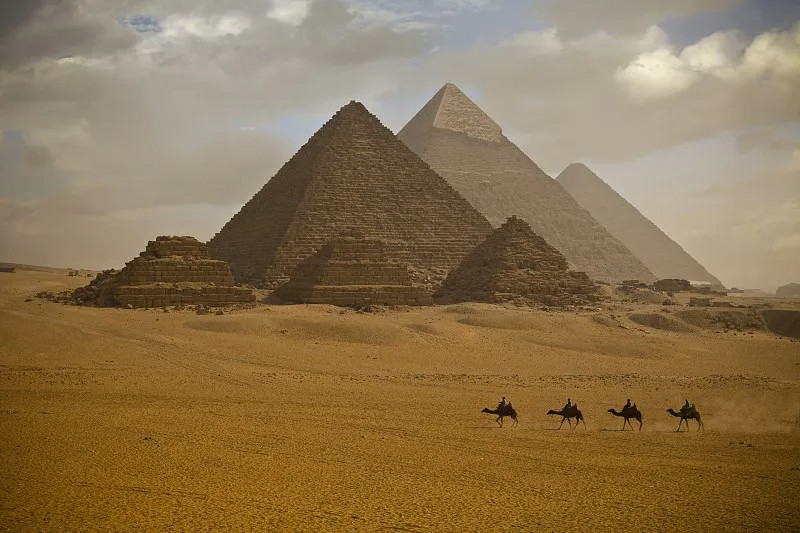Pyramid: (206, 99, 497, 301), (396, 81, 664, 288), (557, 163, 725, 288), (439, 217, 609, 307), (269, 228, 436, 308), (86, 237, 261, 307)
